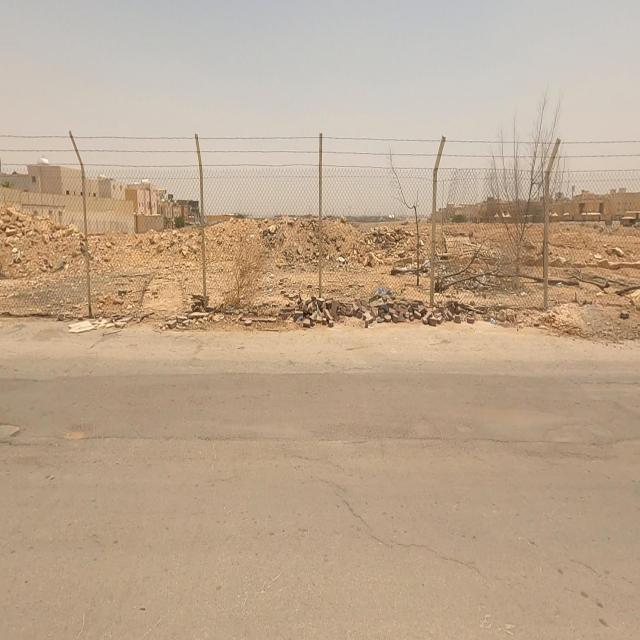debris: (42, 286, 139, 356), (353, 266, 410, 318), (320, 234, 364, 288)
